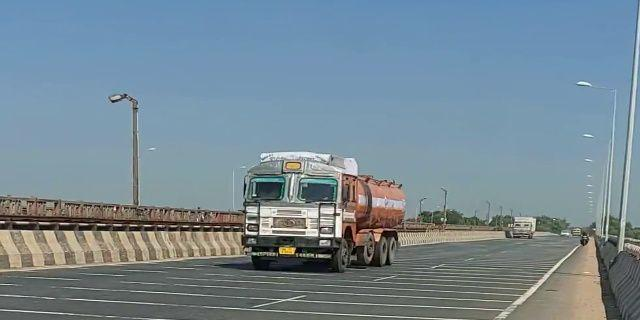Truck: (232, 145, 409, 274), (509, 216, 542, 241)
